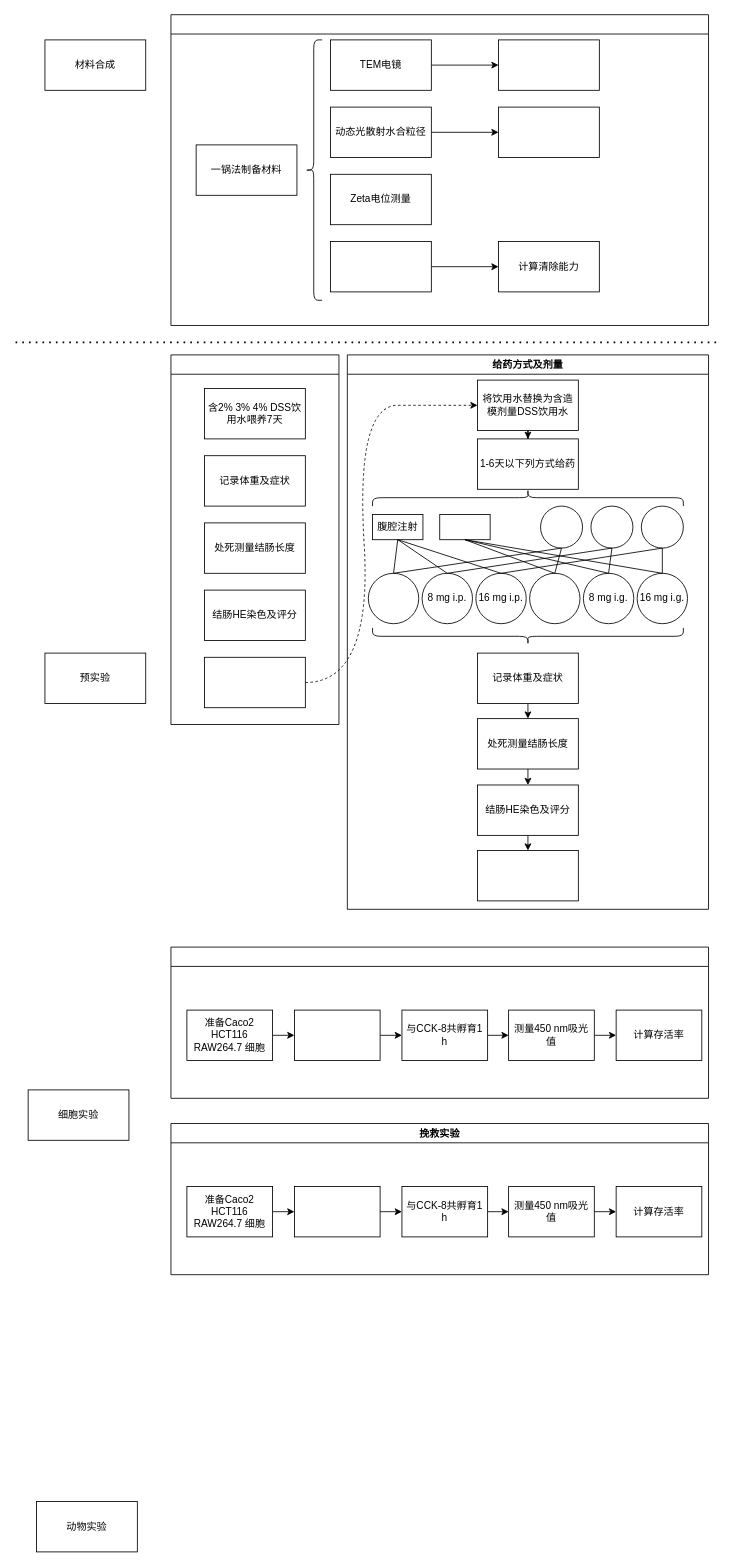
Some shapes in this 737 by 1567 pixel diagram are drawn without their labels. The box of each missing label's shape, as (x1, y1, x2, y2) in pixels:
16 mg: (640, 505, 683, 548)
4 mg: (540, 505, 583, 548)
4 mg i.g.: (529, 572, 580, 624)
4 mg i.p.: (368, 572, 419, 624)
8 mg: (590, 505, 633, 548)
ImageJ 粒径统计: (498, 39, 599, 90)
ROS清除能力（三种代表性ROS）: (330, 241, 431, 292)
与不同浓度POM共孵育24、48 h: (294, 1009, 380, 1060)
与不同浓度POM过氧化氢共孵育24、48 h: (294, 1186, 380, 1237)
得出合适建模剂量: (204, 656, 305, 708)
得出合适治疗剂量及方式: (477, 850, 578, 901)
材料合成及表征: (170, 14, 709, 326)
模型建立: (170, 354, 339, 724)
毒性实验: (170, 946, 709, 1098)
灌胃: (439, 514, 490, 540)
粒径统计: (498, 106, 599, 158)
